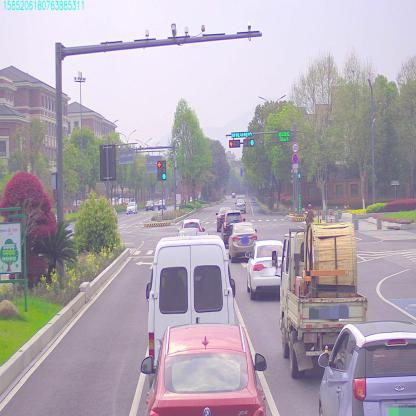traffic-light: (228, 138, 240, 150), (243, 138, 256, 148), (230, 132, 252, 136)
